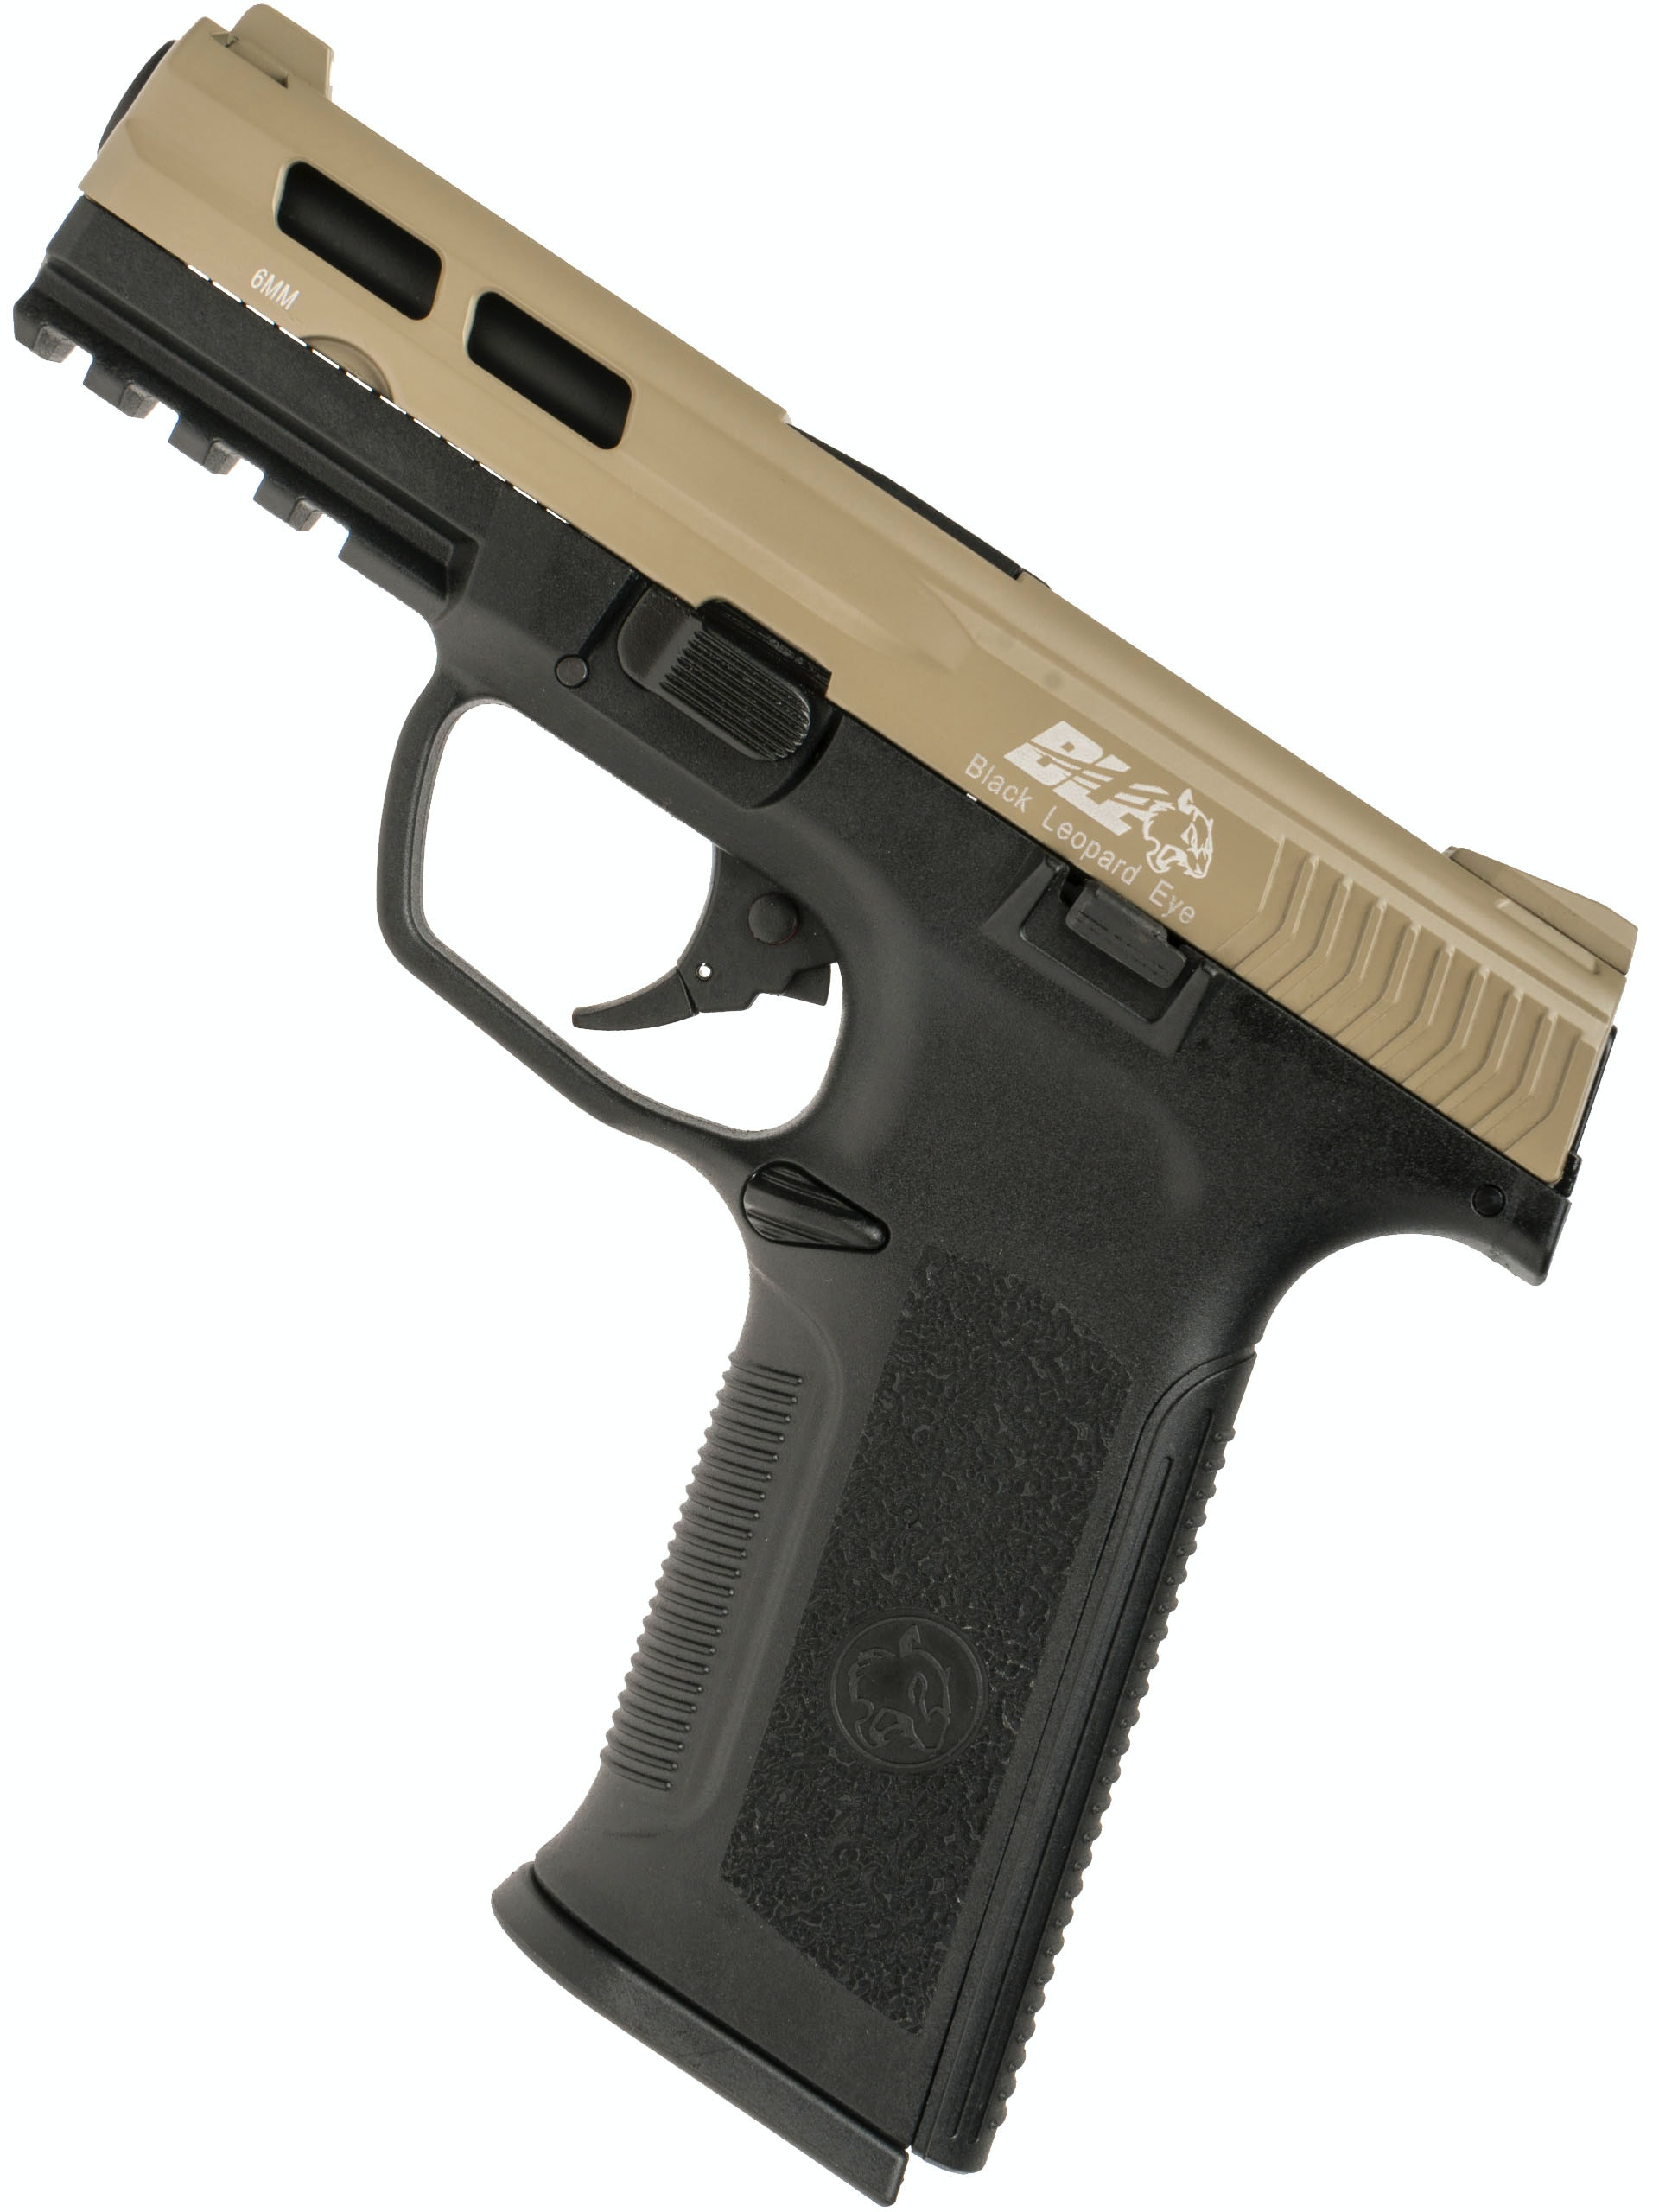asg_ics_ble_xae: (5, 2, 1642, 2186)
